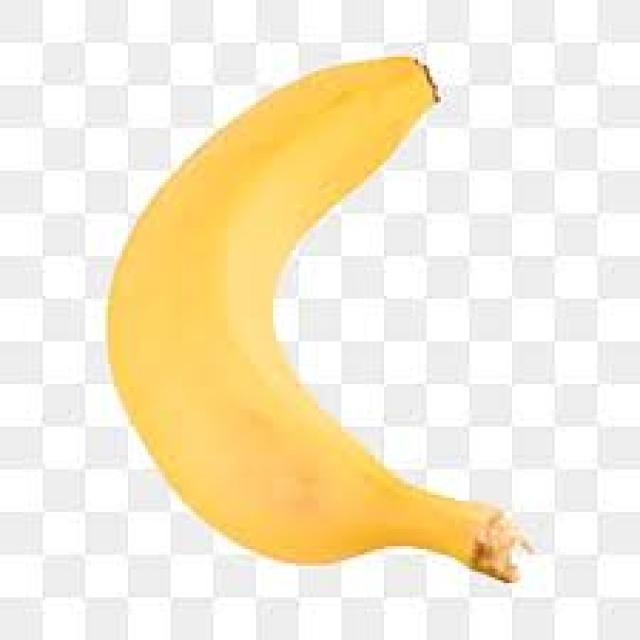banana: (102, 51, 535, 583)
